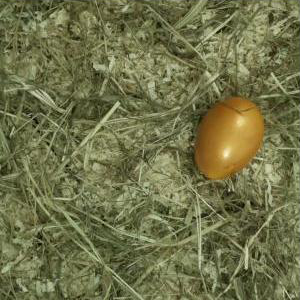egg: (194, 97, 265, 181)
